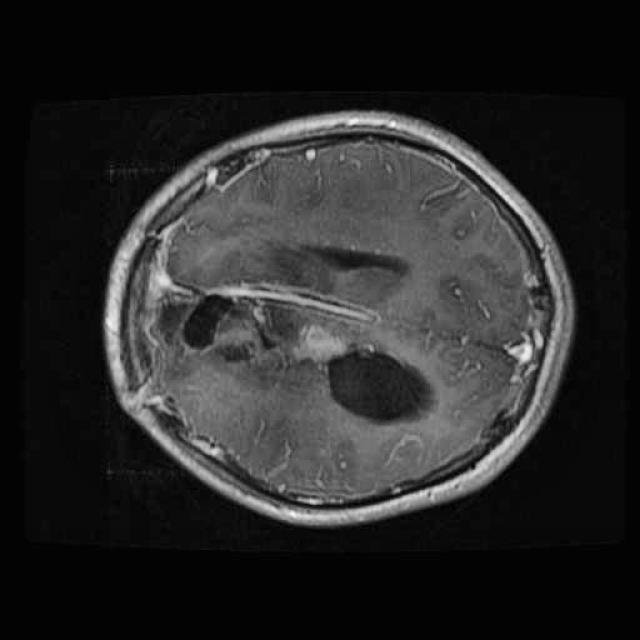Tumor: (319, 342, 446, 433)
